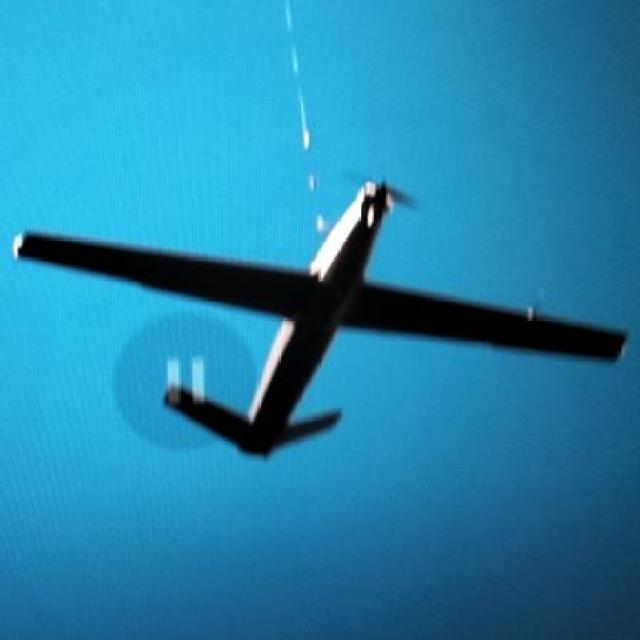iha: (13, 173, 634, 463)
